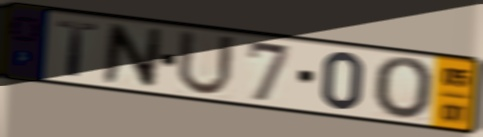0: (318, 49, 367, 112)
7: (245, 38, 293, 104)
N: (100, 21, 165, 91)
O: (371, 55, 437, 124)
T: (55, 18, 101, 79)
U: (173, 27, 237, 99)
